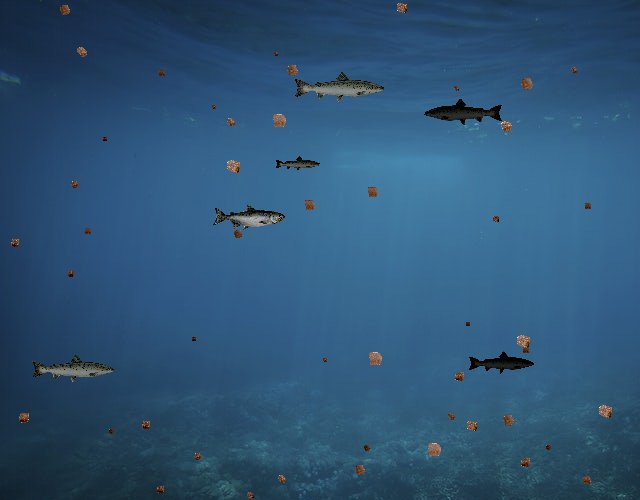Fish: (293, 71, 387, 105), (30, 353, 116, 384), (424, 97, 505, 126), (212, 205, 285, 231), (467, 351, 535, 375), (275, 155, 322, 172)
Pellet: (514, 72, 540, 97), (494, 114, 519, 139), (70, 41, 92, 63), (488, 212, 502, 226), (542, 441, 555, 454), (208, 102, 218, 112)
